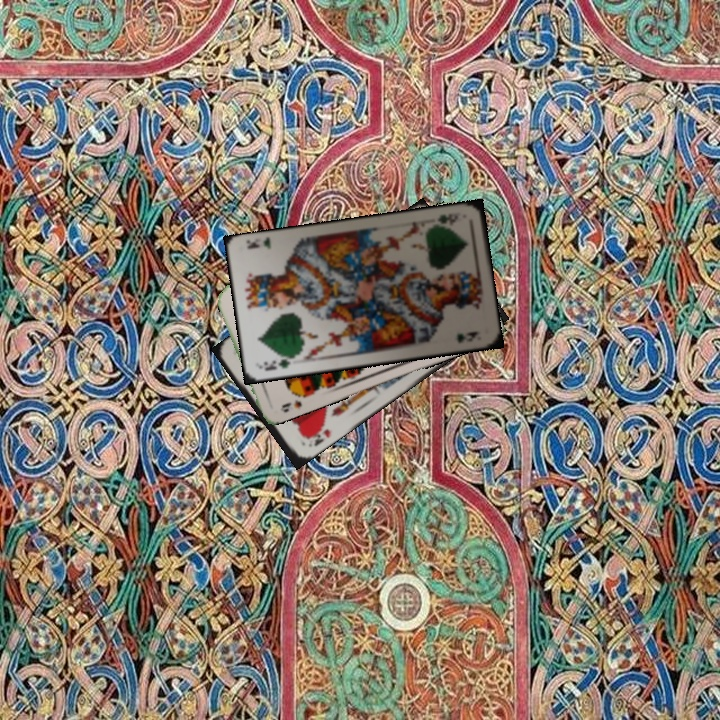GK: (259, 352, 297, 374), (434, 208, 460, 227)
HK: (302, 421, 333, 450)
S9: (276, 388, 311, 415)
